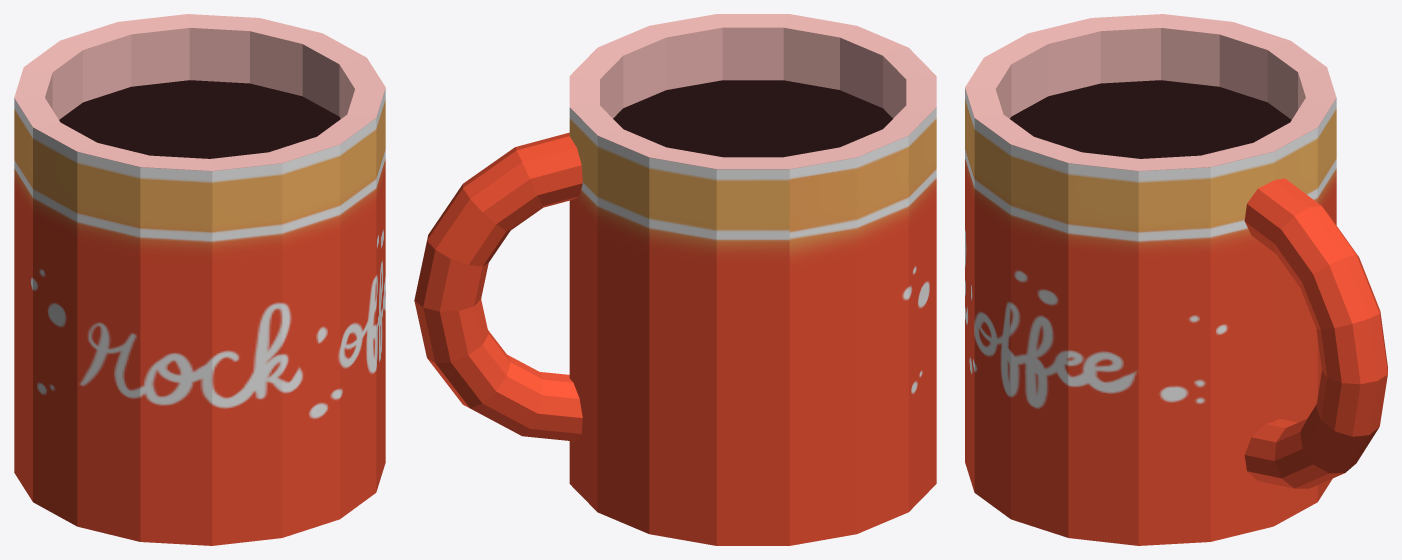
File: CoffeeMug.fbx
The picture shows the model from 3 angles, left to right: view 1: azimuth 30°, elevation 25°; view 2: azimuth 150°, elevation 25°; view 3: azimuth 270°, elevation 25°; orthographic projection.
Parts seen in each view (by area): view 1: Mug; view 2: Mug; view 3: Mug.
Boxes of the visible parts, x1,y1,x2,y2 form: Mug: (14,14,385,545); Mug: (414,14,936,545); Mug: (965,14,1387,545).
Size of the model in its own units: 21.84 by 20 by 20.45.
Materials: 2 (1 with a texture image).
